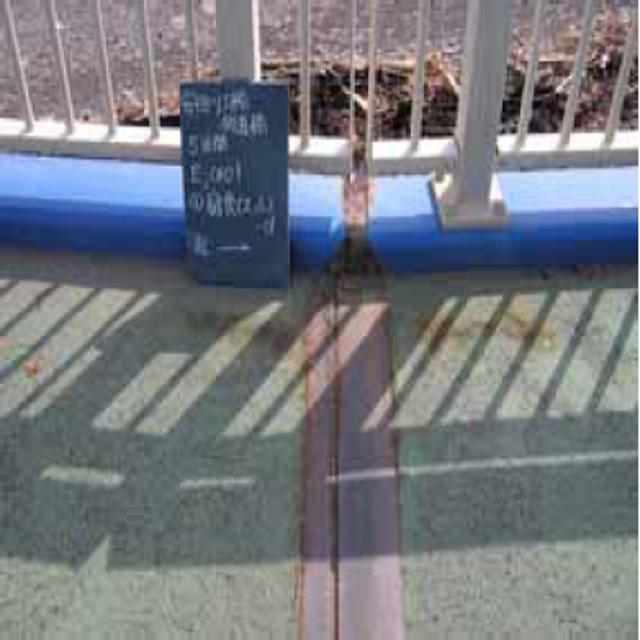corrosion: (304, 298, 401, 640), (340, 128, 380, 272)
